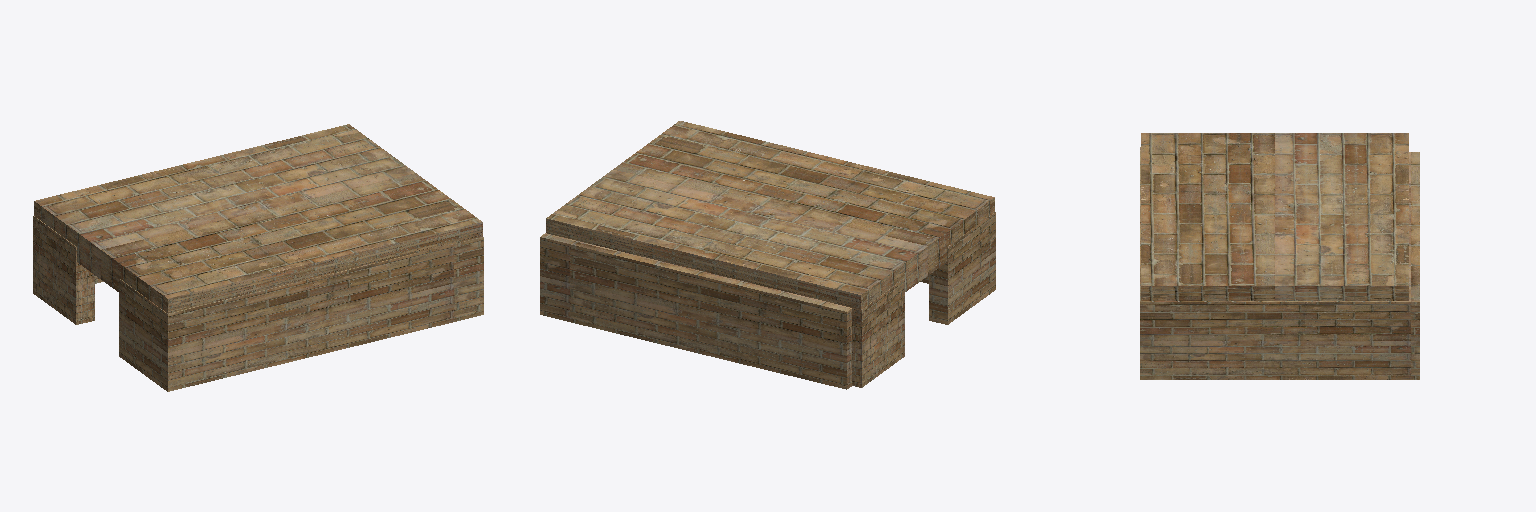
The picture shows the model from 3 angles: view 1: azimuth 30°, elevation 25°; view 2: azimuth 150°, elevation 25°; view 3: azimuth 270°, elevation 25°; orthographic projection.
Visible parts, largest first — view 1: Wall003, Wall001, Wall002; view 2: Wall003, Wall001, Wall002; view 3: Wall003, Wall001.
Part boxes in pixels (bbox=[...]): Wall003: bbox=[34, 124, 482, 313]; Wall001: bbox=[95, 237, 483, 391]; Wall002: bbox=[33, 216, 94, 324]; Wall003: bbox=[546, 121, 994, 324]; Wall001: bbox=[540, 212, 995, 389]; Wall002: bbox=[852, 279, 904, 387]; Wall003: bbox=[1141, 133, 1408, 300]; Wall001: bbox=[1140, 147, 1419, 379].
Bounding box in the file's own units: 399 × 112 × 305.
Materials: 1 (1 with a texture image).